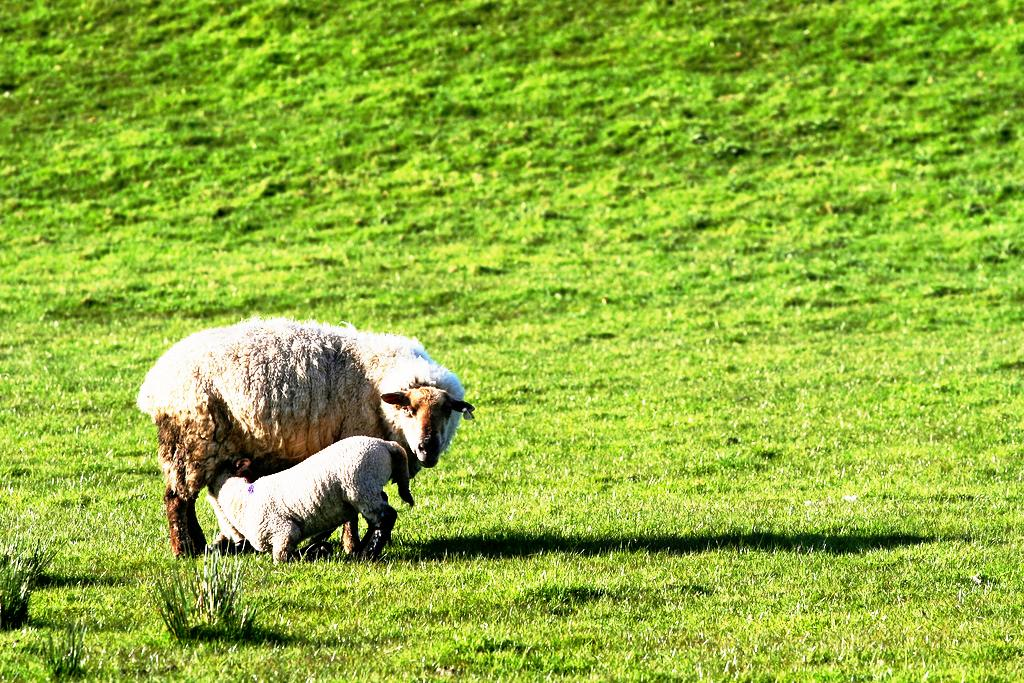Sheep: (148, 318, 463, 544), (208, 434, 418, 562)
